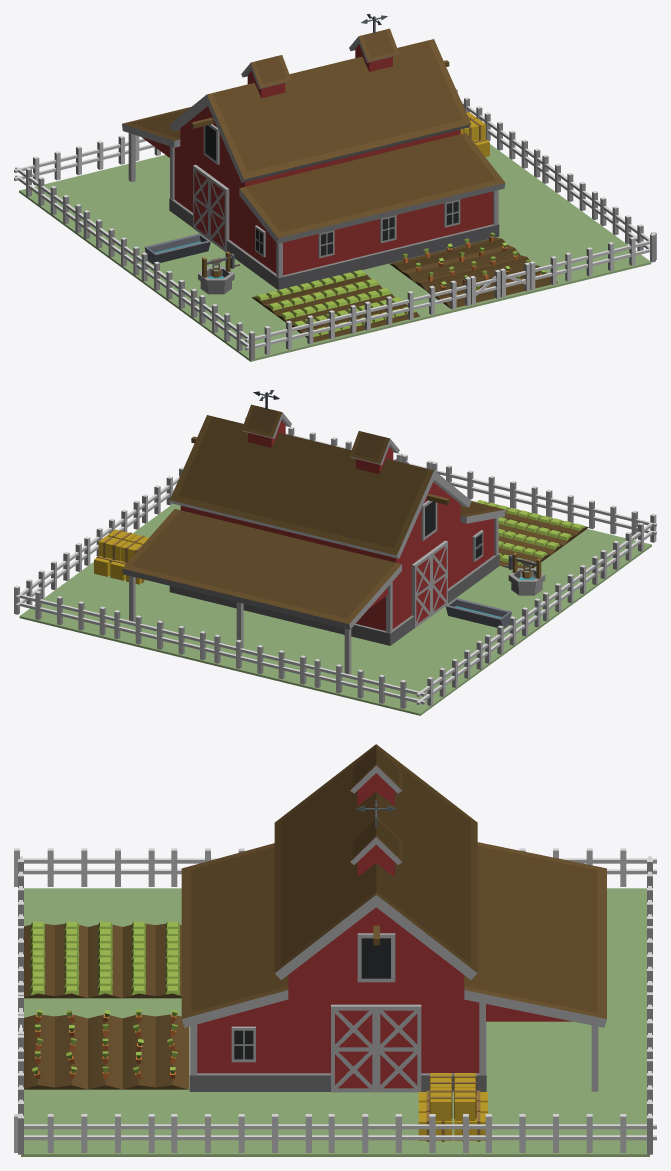
Rendered from farm.glb.
3 renders of one model, top to bottom at view 1: azimuth 30°, elevation 25°; view 2: azimuth 150°, elevation 25°; view 3: azimuth 270°, elevation 25°, orthographic. The views are drawn at different scales.
Parts seen in each view (by area): view 1: Barn, Ground, Crop_Cabbage, Crop_Carrot, FenceGate, Fence_F0, Fence_F1, Fence_B0, Fence_F3, Fence_L3, Fence_L0, Fence_L2 (+7 smaller); view 2: Barn, Ground, Crop_Cabbage, HayStack, Fence_B0, Fence_B1, Fence_B2, Fence_F0, Fence_B3, Fence_F1, Fence_L3, Fence_L1 (+7 smaller); view 3: Barn, Ground, Crop_Carrot, Crop_Cabbage, HayStack, Fence_R3, Fence_R1, Fence_R2, Fence_L0, Fence_R0, Fence_L3.
Part boxes in pixels (box(x1,y1,x2,y2)): Barn: box(122, 14, 505, 289); Ground: box(19, 144, 651, 361); Crop_Cabbage: box(251, 270, 419, 342); Crop_Carrot: box(389, 232, 557, 308); FenceGate: box(447, 256, 556, 305); Fence_F0: box(245, 305, 356, 354); Fence_F1: box(346, 280, 456, 330); Fence_B0: box(14, 135, 124, 185); Fence_F3: box(546, 231, 656, 281); Fence_L3: box(15, 167, 81, 233); Fence_L0: box(189, 294, 254, 360); Fence_L2: box(74, 210, 139, 275); Barn: box(122, 390, 505, 674); Ground: box(19, 500, 651, 715); Crop_Cabbage: box(476, 500, 588, 568); HayStack: box(94, 529, 148, 584); Fence_B0: box(314, 659, 425, 708); Fence_B1: box(214, 634, 314, 684); Fence_B2: box(114, 610, 214, 660); Fence_F0: box(546, 489, 656, 539); Fence_B3: box(14, 585, 114, 635); Fence_F1: box(446, 465, 555, 513); Fence_L3: box(416, 640, 482, 705); Fence_L1: box(532, 556, 598, 621); Barn: box(181, 744, 606, 1092); Ground: box(21, 888, 649, 1156); Crop_Carrot: box(24, 1009, 188, 1089); Crop_Cabbage: box(24, 921, 181, 998); HayStack: box(418, 1073, 487, 1141); Fence_R3: box(485, 1114, 656, 1152); Fence_R1: box(171, 1114, 342, 1152); Fence_R2: box(328, 1114, 499, 1152); Fence_L0: box(14, 848, 185, 886); Fence_R0: box(14, 1114, 185, 1152); Fence_L3: box(519, 848, 656, 886).
Bounding box in the file's own units: 32.71 × 14.3 × 32.71.
Materials: 2 (1 with a texture image).
